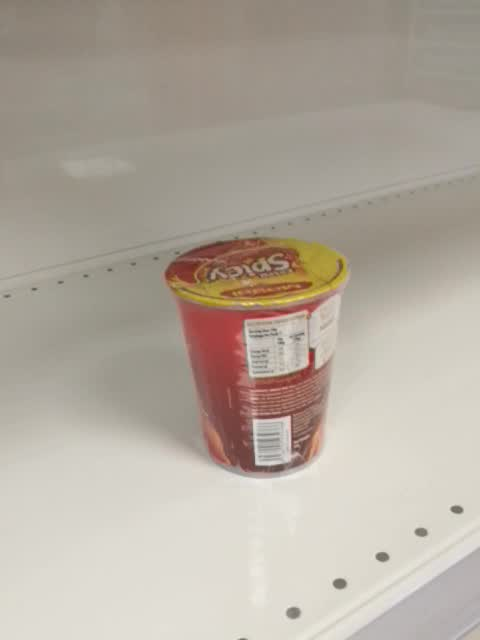maggi: (164, 238, 349, 479)
